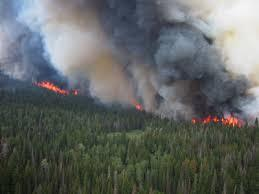fire: (31, 78, 80, 99), (190, 111, 243, 129), (129, 95, 143, 111)
yanwu: (0, 1, 254, 120)
